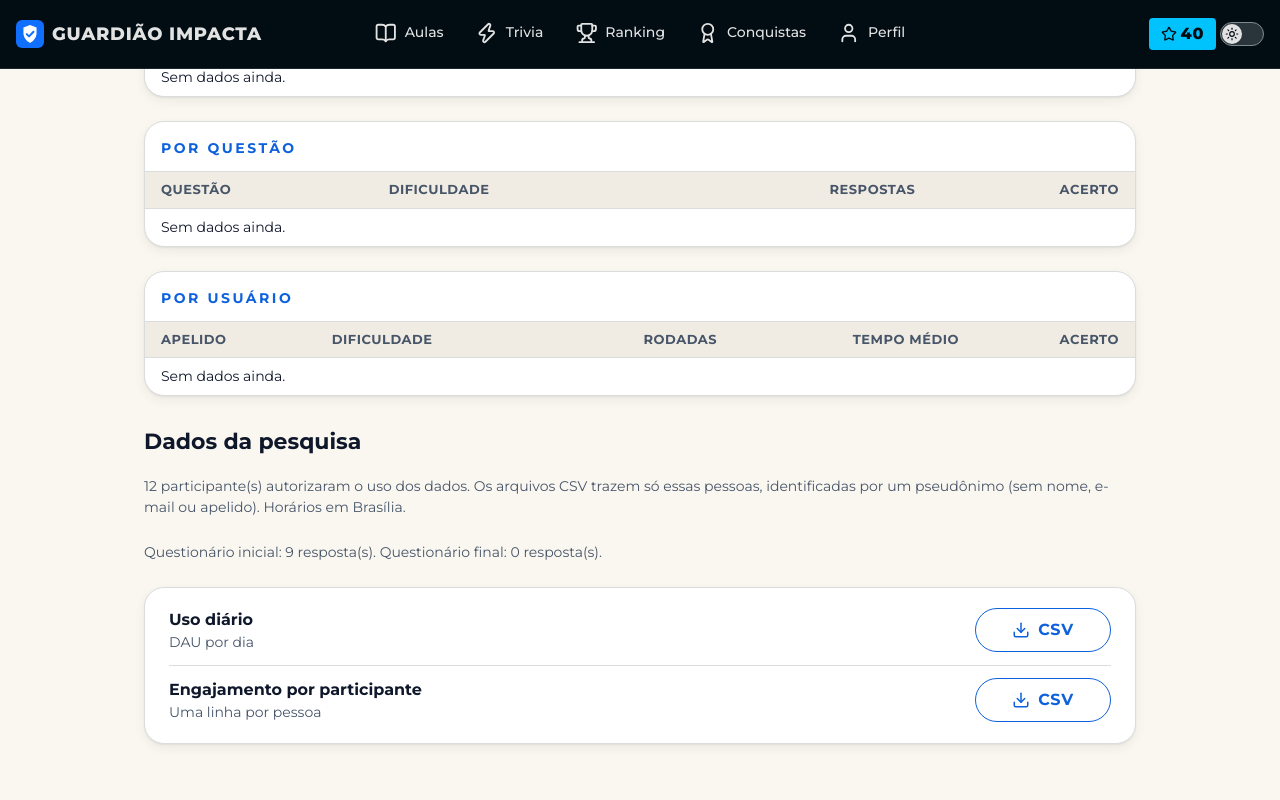
Test: admin: dados da pesquisa › erro no download aparece e reabilita os botões
(page scrolled)
Expected: the navigation bar named "Navegação principal" is shown, [375,22,905,44]
Click the button with aria-label "Baixar Engajamento por participante em CSV" at (1043, 700), box [975,678,1111,722]
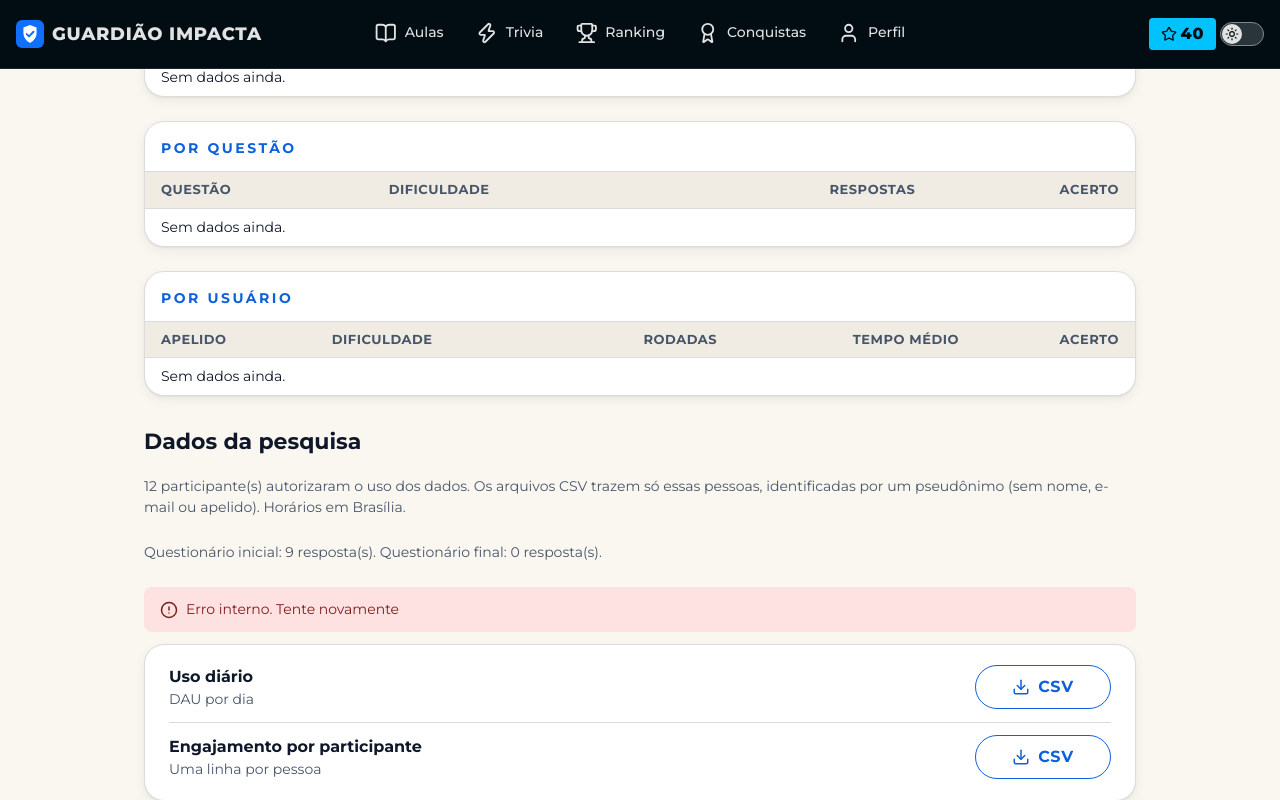
Expected: the button with aria-label "Baixar Uso diário em CSV" is enabled, [975,665,1111,709]
Expected: the message shows "Erro interno", [186,600,399,618]
